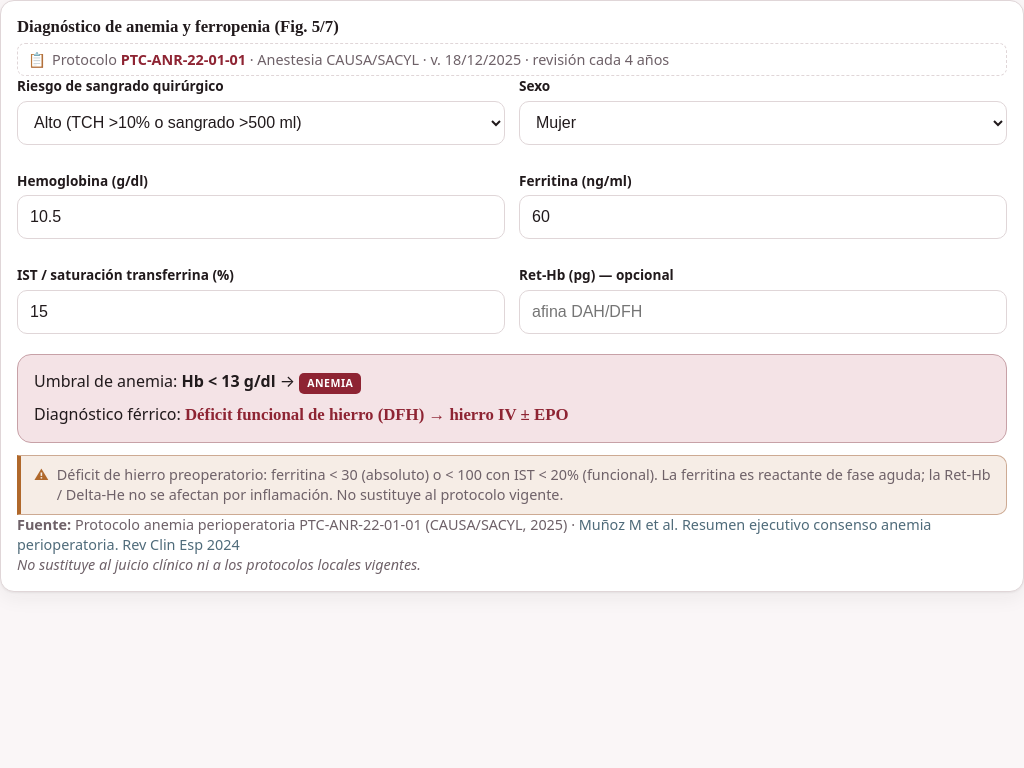
Test: Pantallas de ferropenia — regresión Fase 2a › AnemiaDx: caso 70 / IST 24 → "inflamación no evaluada" + DERIVAR
Replace the text in the field labelled "Ferritina (ng/ml)" with "70": (763, 217) [519,195,1007,239]
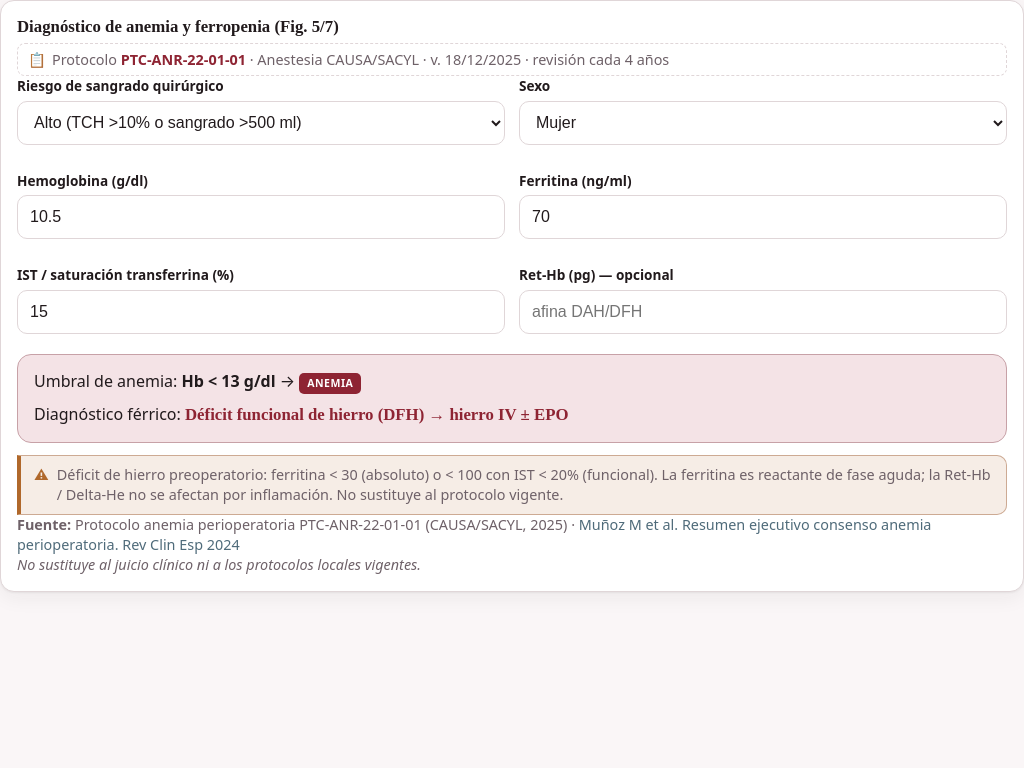
Replace the text in the field labelled "IST / saturación transferrina (%)" with "24": (261, 312) [17,290,505,334]
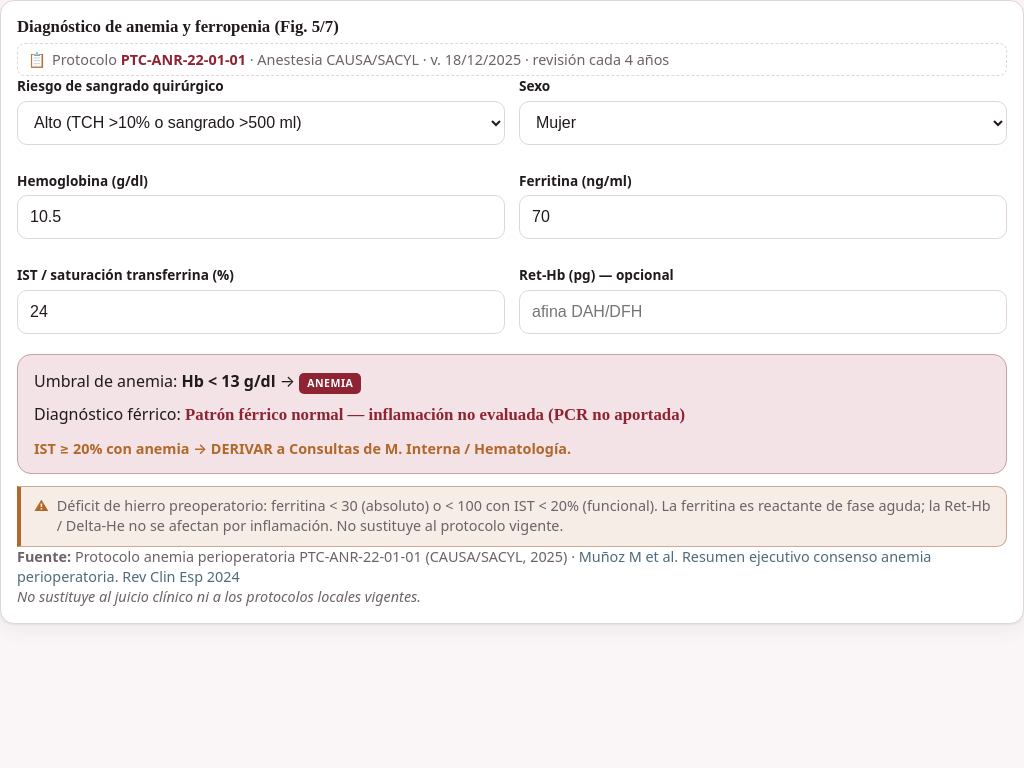
Result: the text "inflamación no evaluada (PCR no aportada)" is shown at [185,405,685,424]
Result: the text "DERIVAR" is shown at [34,439,571,458]
